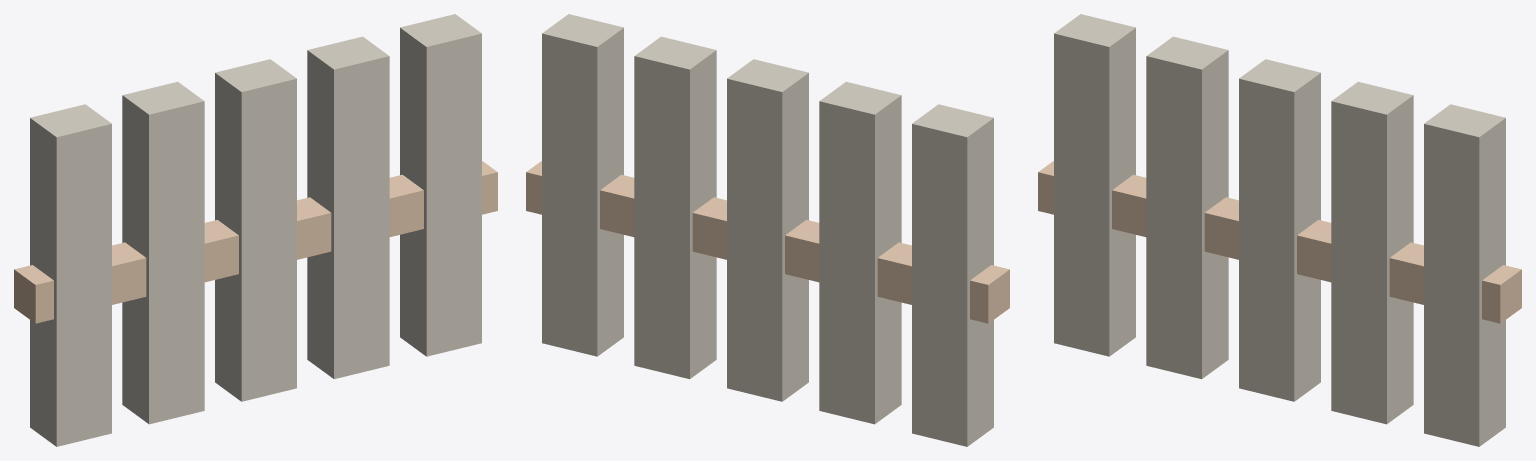
Rendered from fence.glb.
3 views of the same model, side by side, from view 1: azimuth 30°, elevation 25°; view 2: azimuth 150°, elevation 25°; view 3: azimuth 330°, elevation 25° (orthographic).
Visible parts, largest first — view 1: picket3, picket1, picket0, picket4, picket2, rail; view 2: picket3, picket1, picket0, picket4, picket2, rail; view 3: picket1, picket3, picket4, picket0, picket2, rail.
Part boxes in pixels (box(x1,y1,x2,y2)): picket3: box(307, 36, 389, 379); picket1: box(122, 81, 204, 424); picket0: box(30, 104, 111, 446); picket4: box(400, 14, 481, 356); picket2: box(215, 59, 296, 401); rail: box(14, 161, 497, 323); picket3: box(634, 36, 716, 379); picket1: box(819, 81, 901, 424); picket0: box(912, 104, 993, 446); picket4: box(542, 14, 623, 356); picket2: box(727, 59, 808, 401); rail: box(526, 161, 1009, 323); picket1: box(1146, 36, 1228, 379); picket3: box(1331, 81, 1413, 424); picket4: box(1424, 104, 1505, 446); picket0: box(1054, 14, 1135, 356); picket2: box(1239, 59, 1320, 401); rail: box(1038, 161, 1521, 323).
Bounding box in the file's own units: 1 × 0.64 × 0.1.
